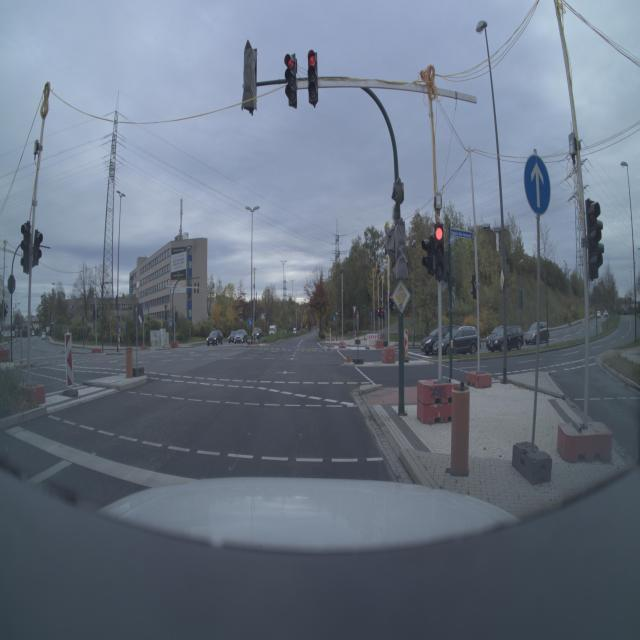red_light: (306, 45, 326, 109), (432, 216, 448, 281), (286, 51, 302, 108)
